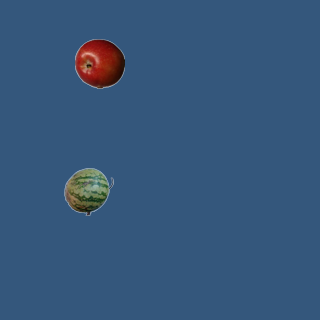Apple Braeburn: (74, 38, 124, 88)
Watermelon: (63, 166, 113, 216)
